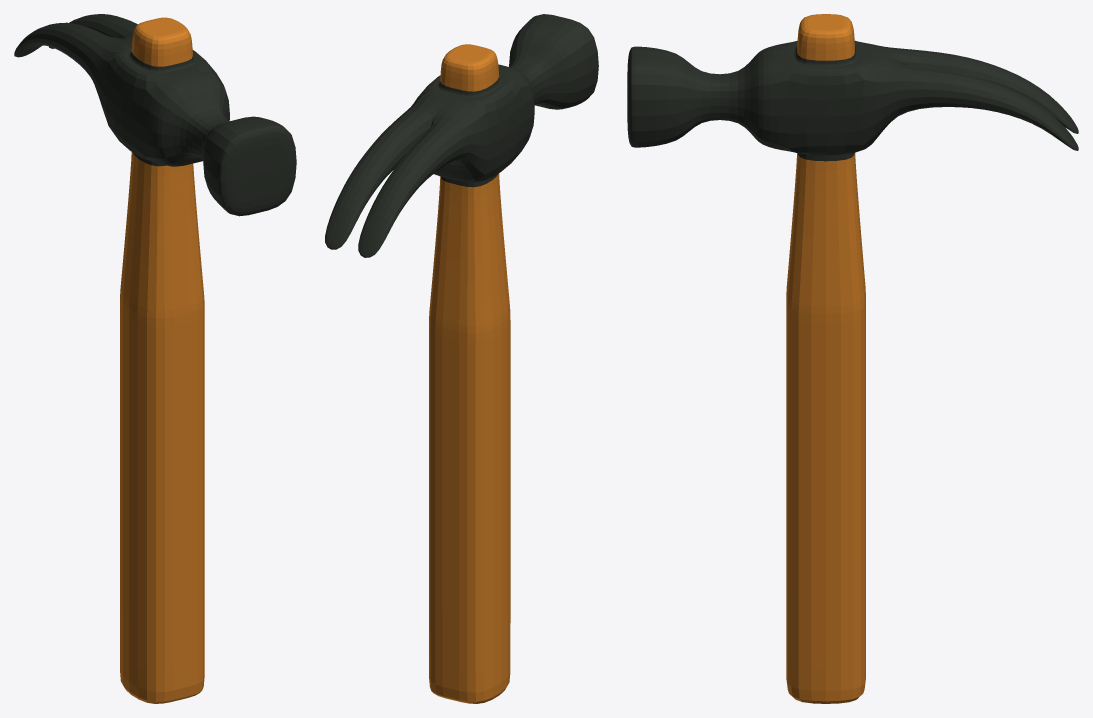
The model's file is hammer.fbx.
The picture shows the model from 3 angles, left to right: view 1: azimuth 30°, elevation 25°; view 2: azimuth 150°, elevation 25°; view 3: azimuth 270°, elevation 25°; orthographic projection. The views are drawn at different scales.
Visible parts, largest first — view 1: Cube; view 2: Cube; view 3: Cube.
Boxes of the visible parts, x1=… form: Cube: x1=14, y1=14, x2=296, y2=703; Cube: x1=325, y1=14, x2=598, y2=703; Cube: x1=627, y1=14, x2=1078, y2=703.
Size of the model in its own units: 9.16 by 71.8 by 44.12.
